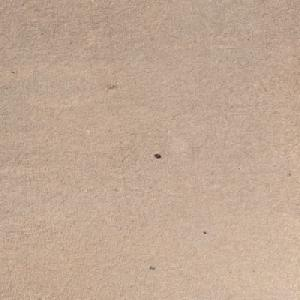Nut: (153, 153, 160, 157)
